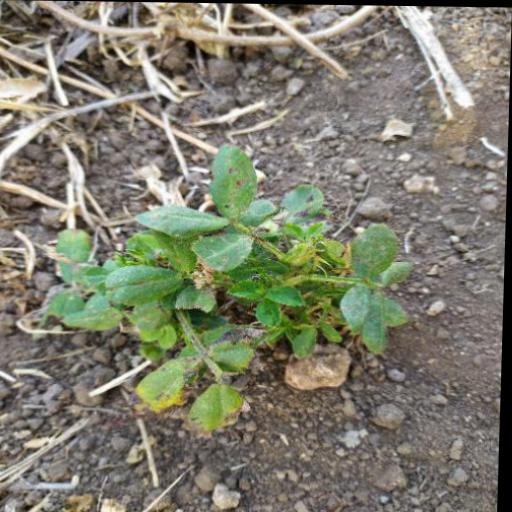weed: (37, 112, 436, 436)
